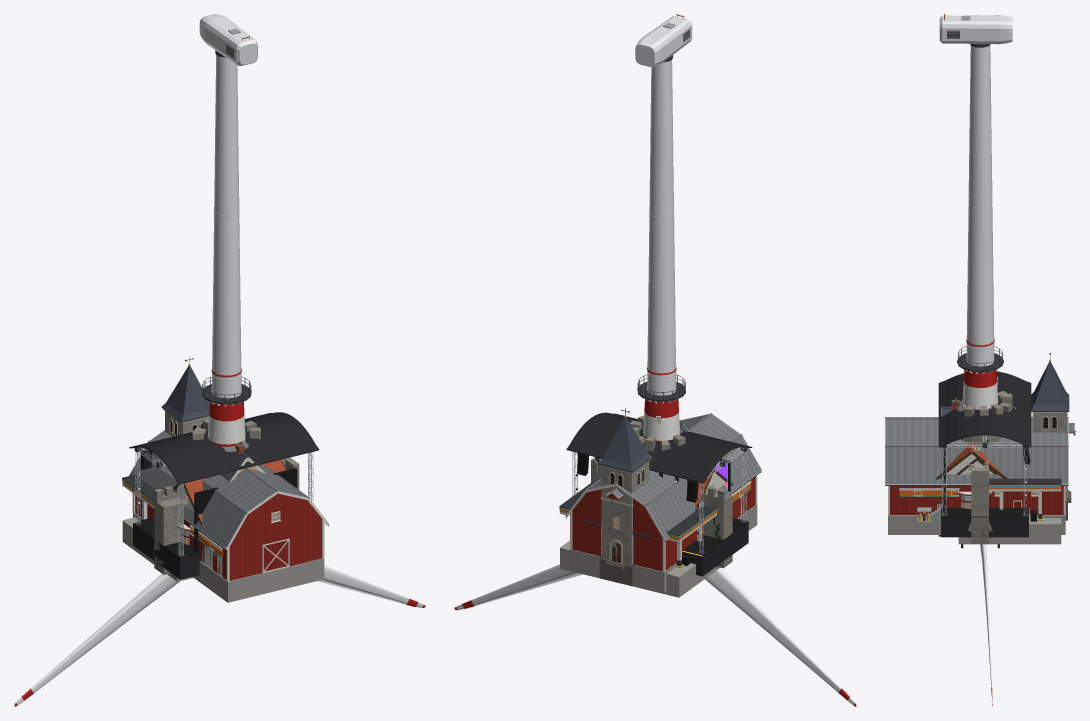
Rendered from buildings_kit.glb.
3 renders of one model, left to right at view 1: azimuth 30°, elevation 25°; view 2: azimuth 150°, elevation 25°; view 3: azimuth 270°, elevation 25°, orthographic. The views are drawn at different scales.
Visible parts, largest first — view 1: Barn_Red, Wind_Turbine_Tower, Festival_Stage, Wind_Turbine_Rotor, Lighthouse, Church, Castle_Ruin_Wall, Gas_Station, Farmhouse; view 2: Barn_Red, Wind_Turbine_Tower, Festival_Stage, Church, Wind_Turbine_Rotor, Gas_Station, Lighthouse, Castle_Ruin_Wall; view 3: Barn_Red, Wind_Turbine_Tower, Festival_Stage, Gas_Station, Church, Lighthouse, Castle_Ruin_Wall, Farmhouse, Castle_Ruin_Tower, Wind_Turbine_Rotor.
Part boxes in pixels (left/top/right/bottom): Barn_Red: left=129, top=430, right=328, bottom=602; Wind_Turbine_Tower: left=199, top=14, right=257, bottom=398; Festival_Stage: left=129, top=412, right=319, bottom=579; Wind_Turbine_Rotor: left=14, top=565, right=425, bottom=706; Lighthouse: left=202, top=369, right=251, bottom=446; Church: left=161, top=357, right=209, bottom=436; Castle_Ruin_Wall: left=153, top=457, right=299, bottom=574; Gas_Station: left=122, top=474, right=222, bottom=581; Farmhouse: left=173, top=459, right=285, bottom=524; Barn_Red: left=565, top=413, right=761, bottom=592; Wind_Turbine_Tower: left=635, top=14, right=692, bottom=395; Festival_Stage: left=566, top=412, right=752, bottom=576; Church: left=598, top=408, right=652, bottom=586; Wind_Turbine_Rotor: left=454, top=564, right=856, bottom=706; Gas_Station: left=559, top=478, right=751, bottom=597; Lighthouse: left=637, top=366, right=685, bottom=441; Castle_Ruin_Wall: left=591, top=457, right=732, bottom=568; Barn_Red: left=885, top=417, right=1075, bottom=534; Wind_Turbine_Tower: left=939, top=14, right=1012, bottom=366; Festival_Stage: left=925, top=371, right=1036, bottom=537; Gas_Station: left=899, top=478, right=1061, bottom=544; Church: left=1031, top=353, right=1071, bottom=520; Lighthouse: left=957, top=339, right=1003, bottom=409; Castle_Ruin_Wall: left=967, top=460, right=992, bottom=543; Farmhouse: left=935, top=441, right=1007, bottom=479; Castle_Ruin_Tower: left=961, top=391, right=1012, bottom=444; Wind_Turbine_Rotor: left=980, top=544, right=992, bottom=705.
Bounding box in the file's own units: 60.75 × 90.15 × 26.1.
